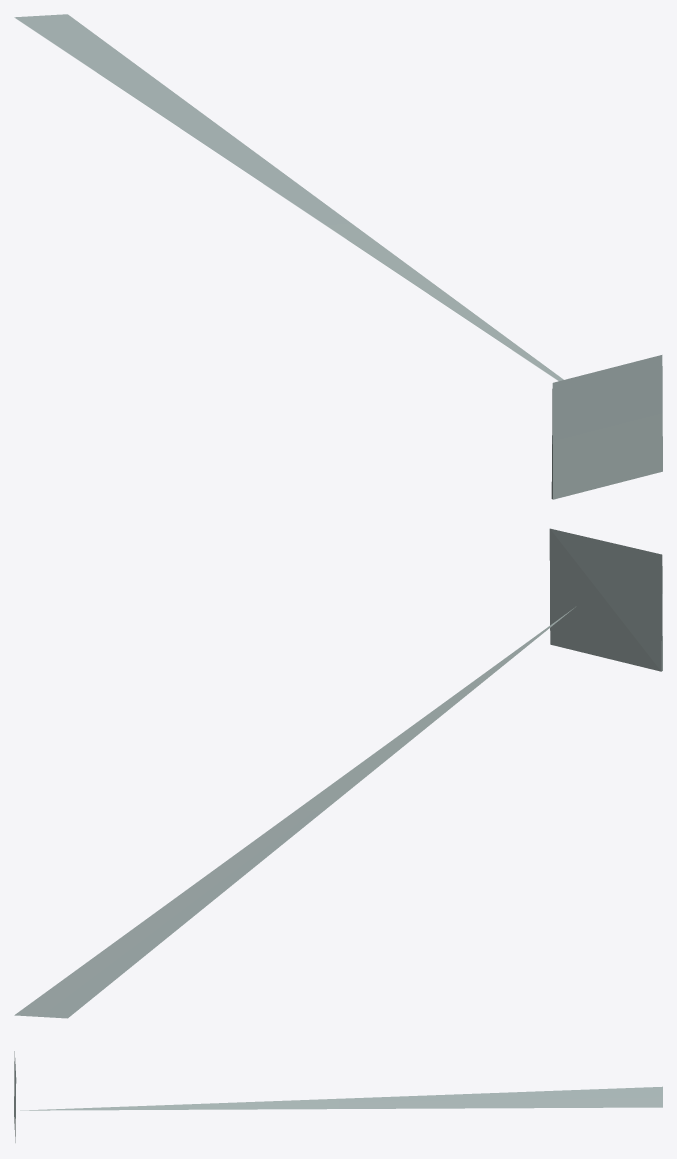
Rendered from zcz002-geode.glb.
The picture shows the model from 3 angles, top to bottom: view 1: azimuth 30°, elevation 25°; view 2: azimuth 150°, elevation 25°; view 3: azimuth 270°, elevation 25°; orthographic projection. The views are drawn at different scales.
Visible parts, largest first — view 1: Node; view 2: Node; view 3: Node.
Boxes of the visible parts, x1,y1,x2,y2 form: Node: (14,14,662,499); Node: (14,528,662,1018); Node: (14,1051,662,1142).
Size of the model in its own units: 0.5002 by 0.5002 by 4.41.
Materials: 1 (1 with a texture image).
